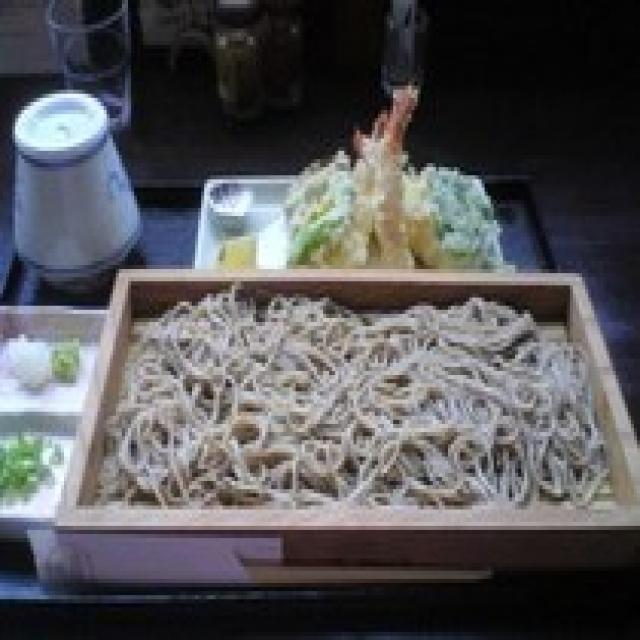面条主食: (45, 257, 640, 587)
